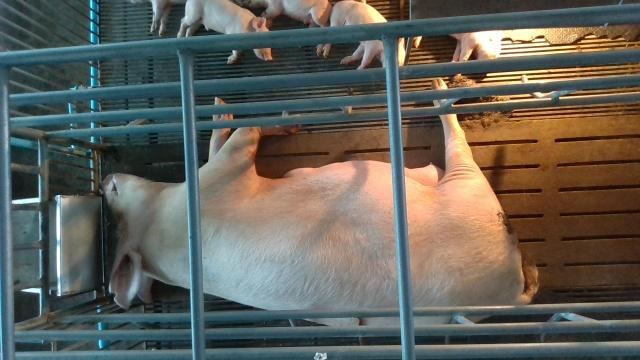piglet: (317, 0, 405, 70), (177, 0, 273, 64), (252, 0, 332, 27)
sow-sleep: (104, 76, 540, 329)
